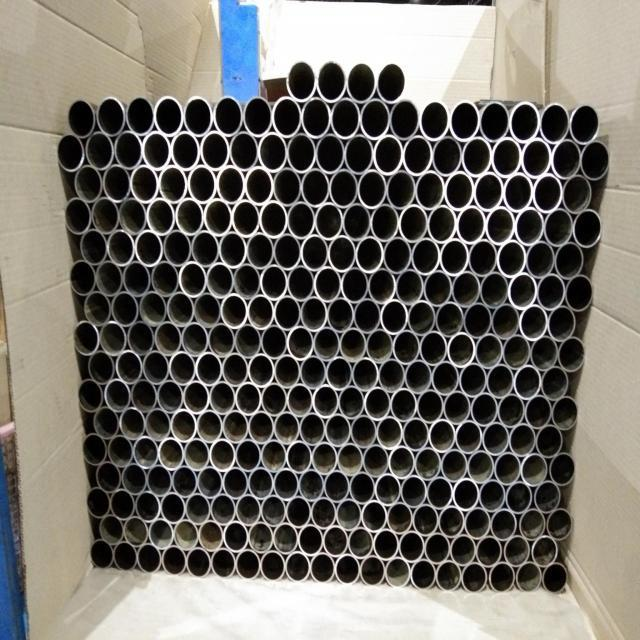pipe: (316, 58, 347, 102), (376, 60, 407, 103), (346, 60, 377, 103), (390, 97, 421, 140), (287, 58, 317, 102), (539, 102, 570, 144), (569, 103, 600, 145), (491, 136, 522, 178), (521, 137, 552, 179), (360, 97, 390, 140), (510, 100, 540, 143), (551, 137, 581, 180), (580, 139, 611, 180), (272, 96, 302, 138), (301, 97, 331, 139), (330, 97, 360, 139), (420, 98, 450, 140), (450, 99, 480, 141), (480, 100, 510, 142), (286, 132, 316, 174), (373, 133, 403, 175), (432, 135, 462, 177), (462, 135, 492, 177), (214, 95, 244, 136), (184, 96, 214, 137), (243, 96, 273, 137), (96, 96, 126, 137), (200, 130, 230, 171), (171, 130, 201, 171), (344, 134, 374, 175), (403, 135, 433, 176), (386, 169, 416, 210), (415, 169, 445, 210), (444, 170, 474, 211), (503, 172, 533, 213), (533, 172, 563, 213), (316, 132, 345, 174), (66, 98, 96, 138), (187, 164, 217, 204), (474, 171, 504, 211), (427, 204, 457, 244), (456, 205, 486, 245), (485, 206, 515, 246), (514, 206, 544, 246), (543, 207, 573, 247), (126, 95, 155, 136), (155, 96, 184, 137), (114, 130, 143, 171), (142, 130, 171, 171), (230, 130, 259, 171), (258, 131, 287, 172), (245, 165, 274, 206), (56, 132, 86, 171), (398, 204, 428, 243), (573, 208, 603, 247), (439, 238, 469, 277), (468, 238, 498, 277), (497, 239, 527, 278), (525, 240, 555, 279), (554, 241, 584, 280), (86, 130, 115, 170), (159, 164, 188, 204), (216, 165, 245, 205), (273, 166, 302, 206), (301, 167, 330, 207), (329, 168, 358, 208), (358, 169, 387, 209), (562, 173, 591, 213), (342, 201, 371, 241), (370, 203, 399, 243), (102, 164, 131, 203), (75, 164, 104, 203), (130, 164, 159, 203), (119, 196, 148, 235), (175, 197, 204, 236), (147, 197, 176, 236), (232, 199, 261, 238), (259, 200, 288, 239), (314, 202, 343, 241), (163, 228, 192, 267), (191, 230, 220, 269), (411, 237, 440, 276), (480, 270, 509, 309), (508, 272, 537, 311), (537, 272, 566, 311), (565, 273, 594, 312), (135, 229, 164, 267), (122, 260, 151, 298), (151, 260, 180, 298), (423, 269, 452, 307), (451, 270, 480, 308), (463, 301, 492, 339), (491, 302, 520, 340), (519, 303, 548, 341), (547, 304, 576, 342), (92, 196, 120, 235), (204, 198, 232, 237), (287, 200, 315, 239), (383, 235, 411, 274), (139, 290, 168, 327), (530, 335, 559, 372), (540, 365, 569, 402), (80, 228, 108, 266), (107, 229, 135, 267), (219, 231, 247, 269), (246, 232, 274, 270), (274, 233, 302, 271), (301, 234, 329, 272), (328, 234, 356, 272), (356, 235, 384, 273), (95, 259, 123, 297), (233, 262, 261, 300), (260, 263, 288, 301), (287, 264, 315, 302), (341, 266, 369, 304), (368, 267, 396, 305), (395, 268, 423, 306), (65, 196, 92, 235), (431, 360, 460, 396), (69, 259, 97, 296), (179, 261, 207, 298), (206, 262, 234, 299), (314, 266, 342, 303), (167, 291, 195, 328), (194, 291, 222, 328), (353, 297, 381, 334), (380, 298, 408, 335), (407, 299, 435, 336), (435, 301, 463, 338), (181, 321, 209, 358), (393, 328, 421, 365), (475, 333, 503, 370), (502, 333, 530, 370), (558, 336, 586, 373), (85, 290, 112, 328), (111, 291, 139, 327), (327, 297, 355, 333), (99, 320, 127, 356), (127, 320, 155, 356), (234, 323, 262, 359), (366, 328, 394, 364), (420, 330, 448, 366), (447, 332, 475, 368), (459, 362, 487, 398), (487, 363, 515, 399), (513, 364, 541, 400), (470, 391, 498, 427), (524, 394, 552, 430), (551, 395, 579, 431), (221, 293, 248, 330), (274, 295, 301, 332), (301, 295, 328, 332), (155, 320, 182, 357), (208, 322, 235, 359), (455, 420, 483, 455), (536, 423, 564, 458), (521, 452, 549, 487), (88, 350, 116, 385), (443, 390, 471, 425), (222, 409, 249, 445), (350, 413, 377, 449), (376, 415, 403, 451), (402, 416, 429, 452), (429, 417, 456, 453), (482, 421, 509, 457), (509, 422, 536, 458), (467, 449, 494, 485), (248, 294, 275, 330), (261, 324, 288, 360), (287, 325, 314, 361), (313, 325, 340, 361), (340, 326, 367, 362), (169, 350, 196, 386), (196, 351, 223, 387), (274, 353, 301, 389), (300, 354, 327, 390), (352, 356, 379, 392), (378, 357, 405, 393), (405, 359, 432, 395), (390, 387, 417, 423), (498, 392, 525, 428), (549, 452, 577, 486), (533, 480, 561, 514), (505, 480, 533, 514), (490, 507, 518, 541), (518, 507, 546, 541), (363, 443, 390, 478), (414, 446, 441, 481), (441, 448, 468, 483), (494, 451, 521, 486), (479, 478, 506, 513), (464, 505, 491, 540), (116, 350, 143, 385), (143, 350, 170, 385), (222, 352, 249, 387), (326, 356, 353, 391), (105, 378, 132, 413), (131, 378, 158, 413), (157, 379, 184, 414), (183, 380, 210, 415), (209, 380, 236, 415), (287, 383, 314, 418), (364, 386, 391, 421), (417, 388, 444, 423), (197, 408, 223, 444), (325, 412, 351, 448), (312, 440, 338, 476), (74, 320, 100, 356), (248, 352, 274, 388), (93, 406, 120, 440), (119, 407, 146, 441), (428, 477, 455, 511), (453, 477, 480, 511), (546, 507, 573, 541), (476, 534, 503, 568), (531, 534, 558, 568), (461, 560, 488, 594), (77, 378, 104, 412), (145, 407, 171, 442), (171, 408, 197, 443), (248, 410, 274, 445), (274, 410, 300, 445), (299, 412, 325, 447), (158, 436, 184, 471), (184, 437, 210, 472), (210, 438, 236, 473), (261, 438, 287, 473), (286, 439, 312, 474), (337, 442, 363, 477), (389, 444, 415, 479), (349, 470, 375, 505), (375, 472, 401, 507), (401, 473, 427, 508), (236, 381, 262, 416), (261, 382, 287, 417), (313, 384, 339, 419), (338, 385, 364, 420), (503, 534, 530, 567), (488, 561, 515, 594), (108, 434, 134, 468), (133, 435, 159, 469), (235, 438, 261, 472), (197, 465, 223, 499), (223, 466, 249, 500), (273, 467, 299, 501), (298, 468, 324, 502), (324, 469, 350, 503), (236, 493, 262, 527), (261, 494, 287, 528), (286, 495, 312, 529), (311, 496, 337, 530), (336, 498, 362, 532), (361, 499, 387, 533), (387, 501, 413, 535), (412, 503, 438, 537), (438, 504, 464, 538), (273, 522, 299, 556), (298, 523, 324, 557), (373, 528, 399, 562), (399, 529, 425, 563), (424, 531, 450, 565), (450, 533, 476, 567), (260, 549, 286, 583), (436, 559, 462, 593), (543, 561, 569, 595), (82, 433, 108, 466), (96, 460, 122, 493), (121, 462, 147, 495), (146, 463, 172, 496), (172, 465, 198, 498), (135, 490, 161, 523), (211, 493, 237, 526), (148, 517, 174, 550), (360, 554, 386, 587), (516, 561, 542, 594), (249, 466, 274, 500), (199, 519, 224, 553), (223, 520, 248, 554), (249, 521, 274, 555), (323, 524, 348, 558), (348, 525, 373, 559), (162, 543, 187, 577), (186, 545, 211, 579), (211, 546, 236, 580), (236, 547, 261, 581), (335, 552, 360, 586), (386, 555, 411, 589), (411, 557, 436, 591), (110, 488, 135, 521), (161, 491, 186, 524), (186, 492, 211, 525), (174, 519, 199, 552), (113, 540, 138, 573), (137, 542, 162, 575), (286, 550, 311, 583), (310, 551, 335, 584), (99, 513, 124, 545), (90, 538, 114, 571), (124, 516, 149, 547), (86, 487, 110, 519)
